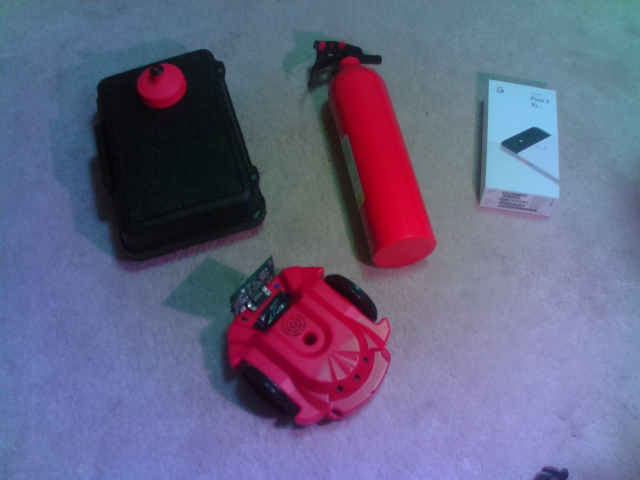chassis: (218, 254, 393, 427)
